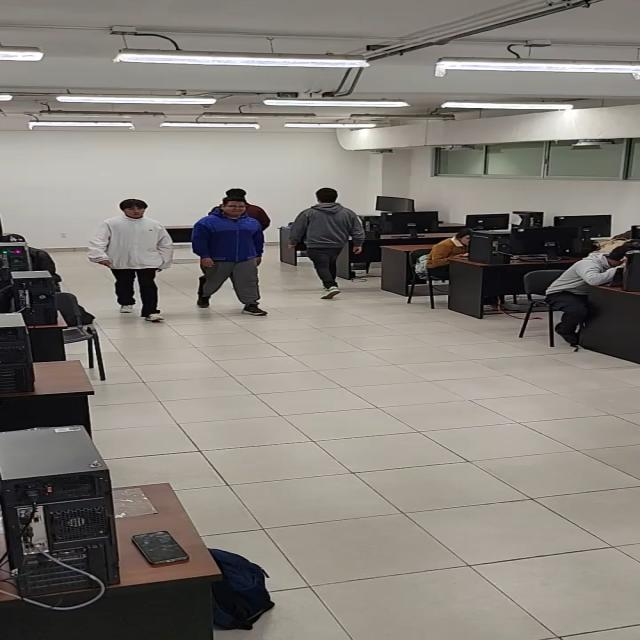Persona: (188, 190, 276, 322), (88, 196, 170, 325), (290, 186, 366, 305)
